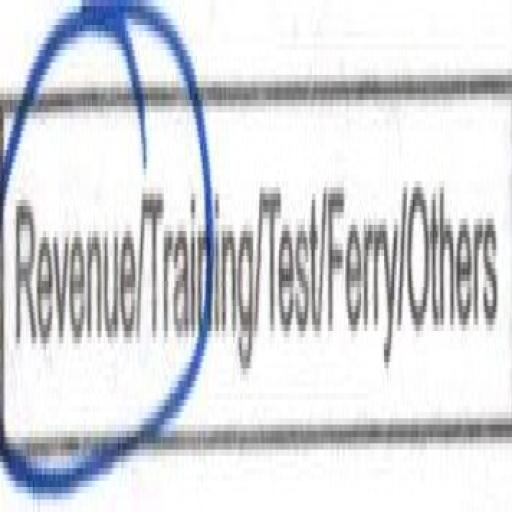check: (0, 0, 137, 487)
